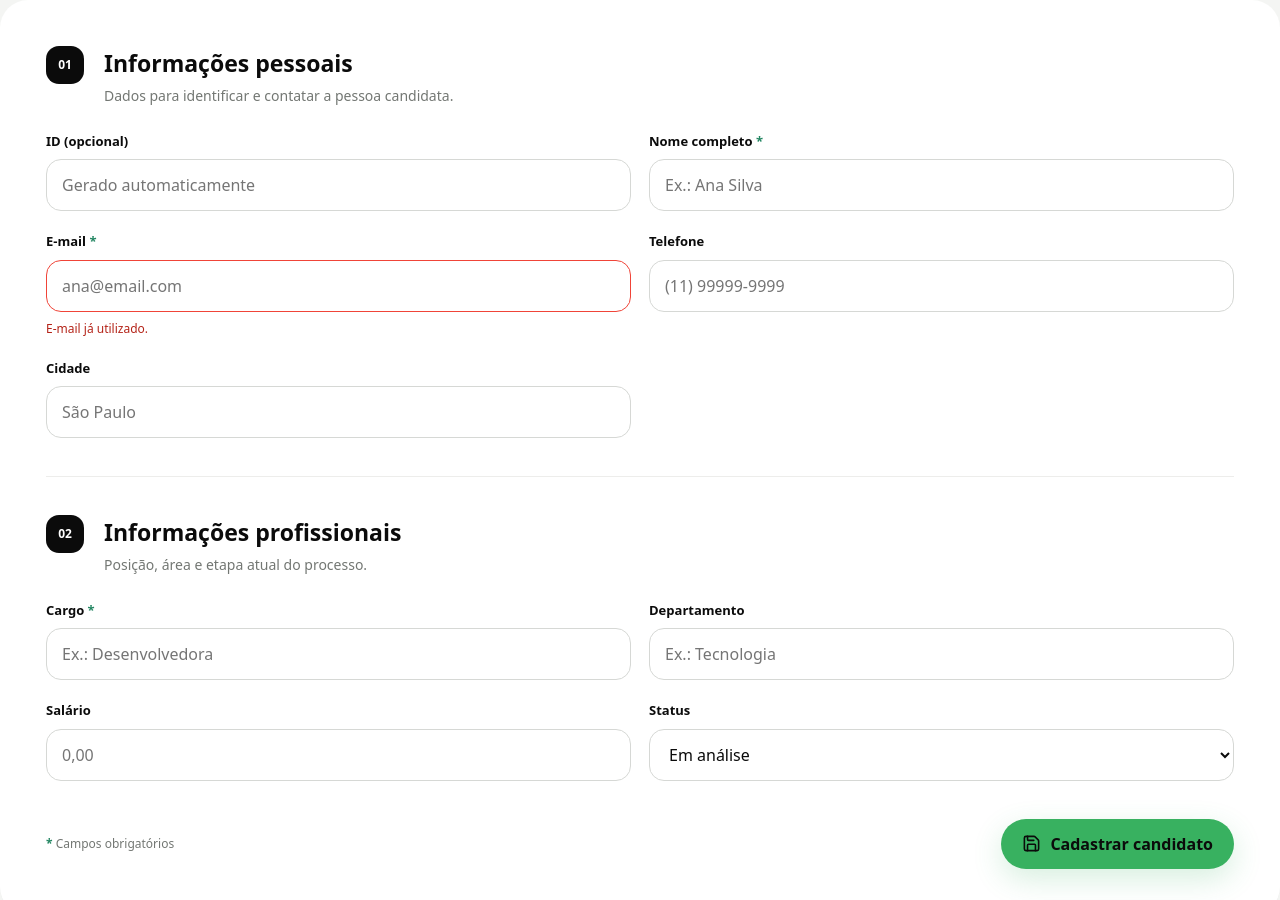
it: EmployeeForm › remove a mensagem do servidor quando o campo é corrigido
Expected: the text "E-mail já utilizado." is shown, [46,320,148,336]
Type "novo@email.com" into the field labelled "E-mail * E-mail já utilizado." at (338, 286), box [46,260,631,312]
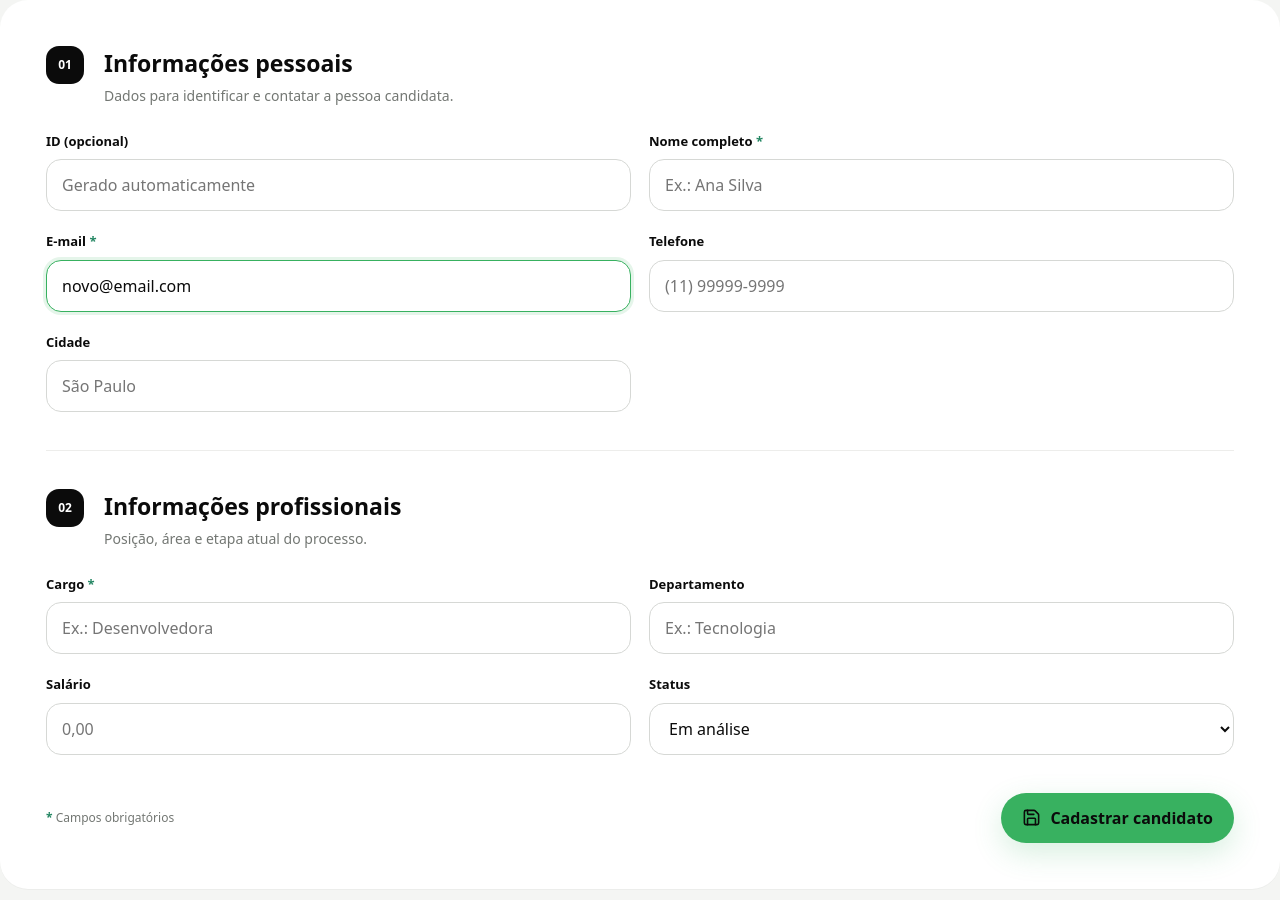
Expected: the text "E-mail já utilizado." is gone
